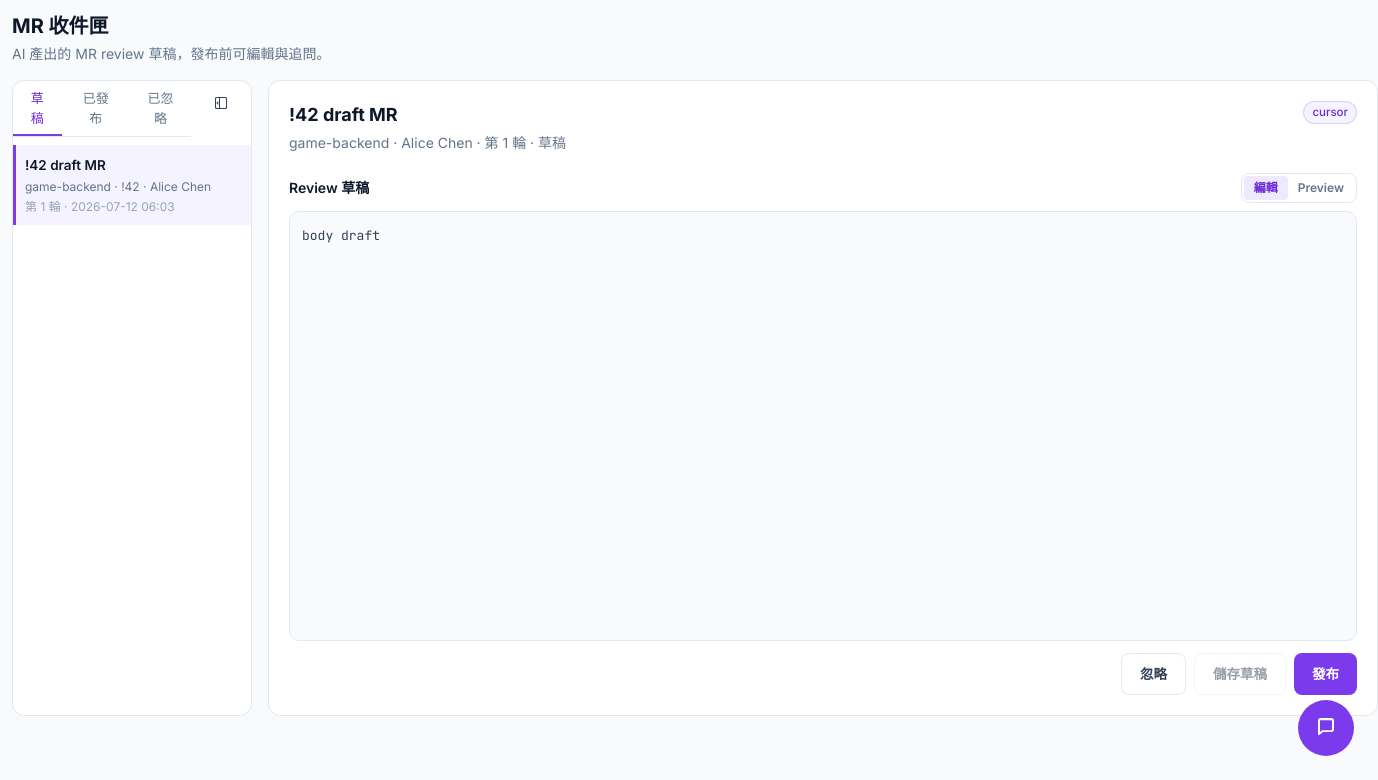
it: MrInboxPage › hydrates Agent Chat from list payload chat_messages
Click the button named "展開 Agent Chat".
click(1326, 728)  # box [1298,700,1354,756]
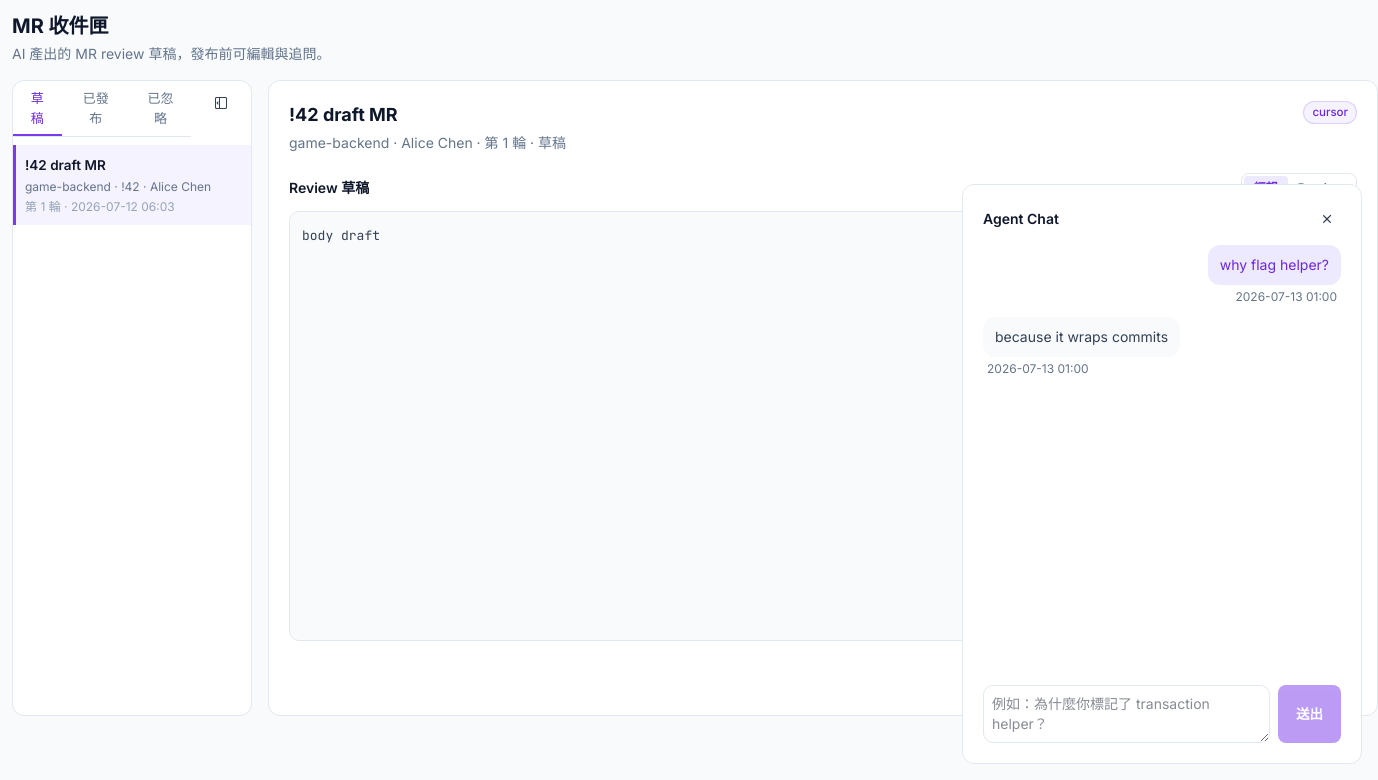
Expected: the text "why flag helper?" is shown, [1208,245,1341,285]
Expected: the text "because it wraps commits" is shown, [983,317,1180,357]
Expected: the button "送出" is shown, [1278,685,1341,743]
